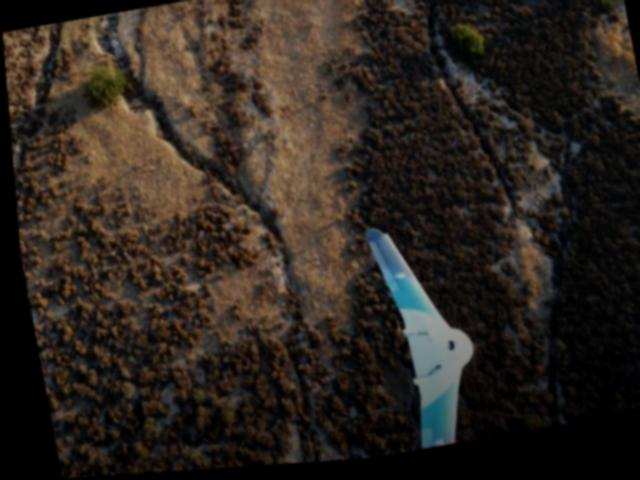iha: (344, 212, 480, 461)
